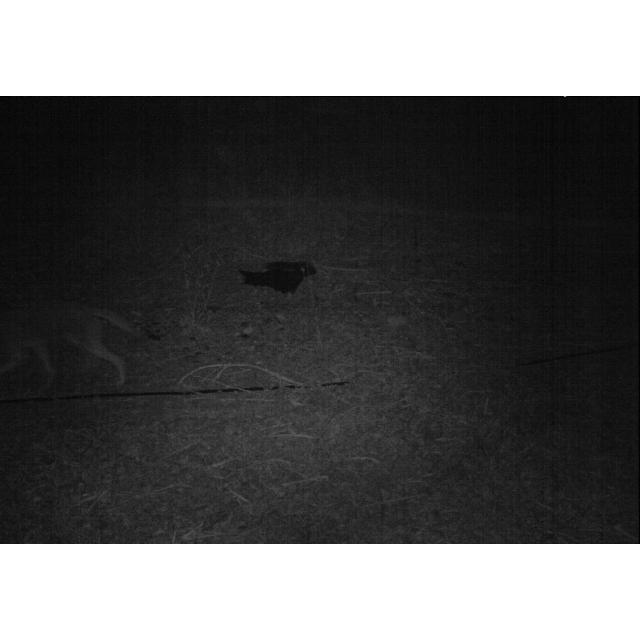animals: (0, 304, 156, 386)
